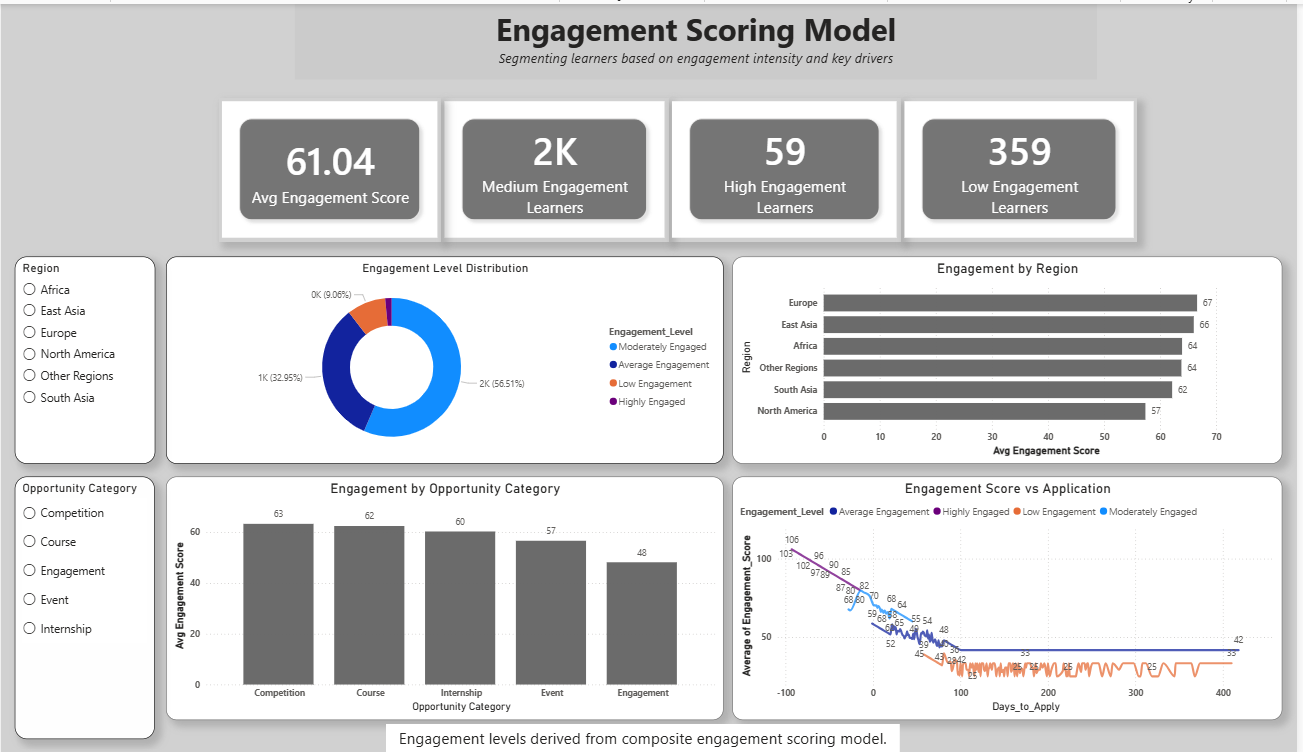

The page's visual inventory and layout, read from the dashboard file:
{"tool":"powerbi","page":{"name":"Engagement Scoring Model Model","canvas":[1800,1050],"ordinal":2},"visuals":[{"type":"textbox","box":[408.7,0,1114.6,104.5],"z":0},{"type":"cardVisual","fields":{"Data":["Dataset.Medium Engagement Learners"]},"box":[508.5,125.4,315.8,199.7],"z":1000},{"type":"cardVisual","fields":{"Data":["Avg(Dataset.Engagement_Score)"]},"box":[60.4,125.4,308.8,199.7],"z":2000},{"type":"cardVisual","fields":{"Data":["Dataset.High Engagement Learners"]},"box":[984.5,125.4,322.8,199.7],"z":3000},{"type":"cardVisual","fields":{"Data":["Dataset.Low Engagement Learners"]},"box":[1451.3,125.4,327.4,199.7],"z":4000},{"type":"donutChart","title":"Engagement Level Distribution","fields":{"Y":["Dataset.Total Applications"],"Category":["Dataset.Engagement_Level"]},"box":[250.8,350.6,752.3,287.9],"z":5000},{"type":"clusteredColumnChart","title":"Engagement by Opportunity Category","fields":{"Category":["Dataset.Opportunity Category"],"Y":["Dataset.Avg Engagement Score"]},"box":[250,656.3,753.5,338.5],"z":6000},{"type":"barChart","title":"Engagement by Region","fields":{"Category":["Dataset.Region"],"Y":["Dataset.Avg Engagement Score"]},"box":[1028.7,350.6,750,287.9],"z":7000},{"type":"lineChart","title":"Engagement Score vs Application","fields":{"Category":["Dataset.Days_to_Apply"],"Series":["Dataset.Engagement_Level"],"Y":["Avg(Dataset.Engagement_Score)"]},"box":[1029.5,656.3,750,338.5],"z":8000},{"type":"listSlicer","fields":{"Values":["Dataset.Region"]},"box":[18.6,350.6,195,287.9],"z":9000},{"type":"listSlicer","fields":{"Values":["Dataset.Opportunity Category"]},"box":[18.6,682.7,195,339],"z":11000},{"type":"textbox","box":[534.7,1000,713.5,50.3],"z":11001}]}

Visuals, with their boxes in screenshot pixels (x1, y1, x2, y2), scaled from the page's 1800x1050 canvas onto the 1303x752 screenshot:
textbox: pyautogui.locateOnScreen(296, 0, 1103, 75)
cardVisual - Dataset.Medium Engagement Learners: pyautogui.locateOnScreen(368, 90, 597, 233)
cardVisual - Avg(Dataset.Engagement_Score): pyautogui.locateOnScreen(44, 90, 267, 233)
cardVisual - Dataset.High Engagement Learners: pyautogui.locateOnScreen(713, 90, 946, 233)
cardVisual - Dataset.Low Engagement Learners: pyautogui.locateOnScreen(1051, 90, 1288, 233)
"Engagement Level Distribution" donutChart: pyautogui.locateOnScreen(182, 251, 726, 457)
"Engagement by Opportunity Category" clusteredColumnChart: pyautogui.locateOnScreen(181, 470, 726, 712)
"Engagement by Region" barChart: pyautogui.locateOnScreen(745, 251, 1288, 457)
"Engagement Score vs Application" lineChart: pyautogui.locateOnScreen(745, 470, 1288, 712)
listSlicer - Dataset.Region: pyautogui.locateOnScreen(13, 251, 155, 457)
listSlicer - Dataset.Opportunity Category: pyautogui.locateOnScreen(13, 489, 155, 732)
textbox: pyautogui.locateOnScreen(387, 716, 904, 751)
